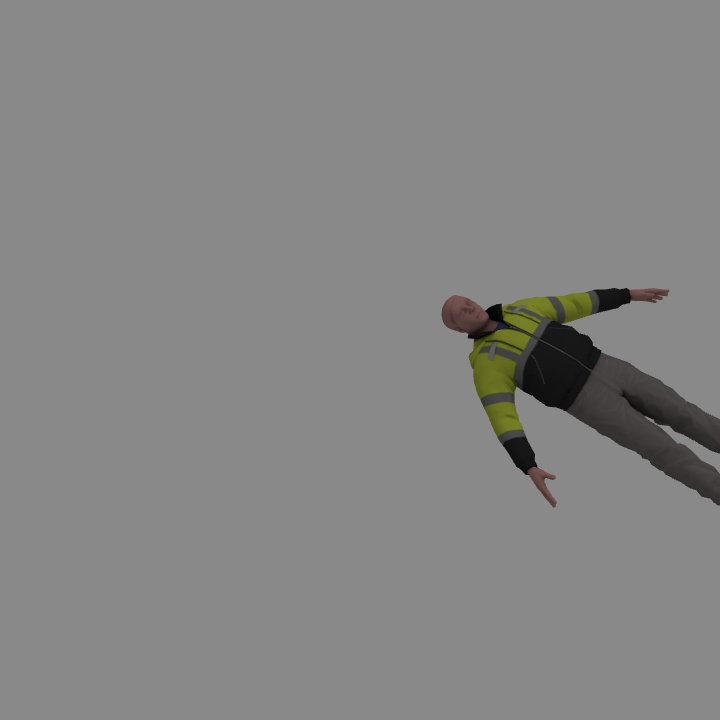victim: (444, 287, 720, 511)
